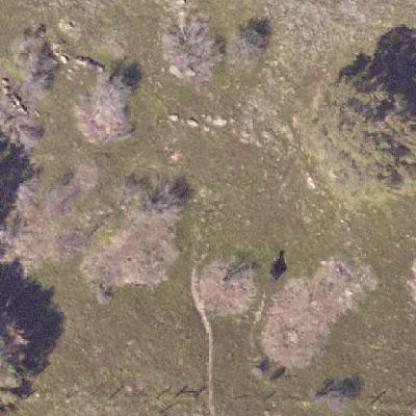tree-top: (299, 53, 415, 204), (73, 78, 140, 146), (224, 28, 271, 72)
